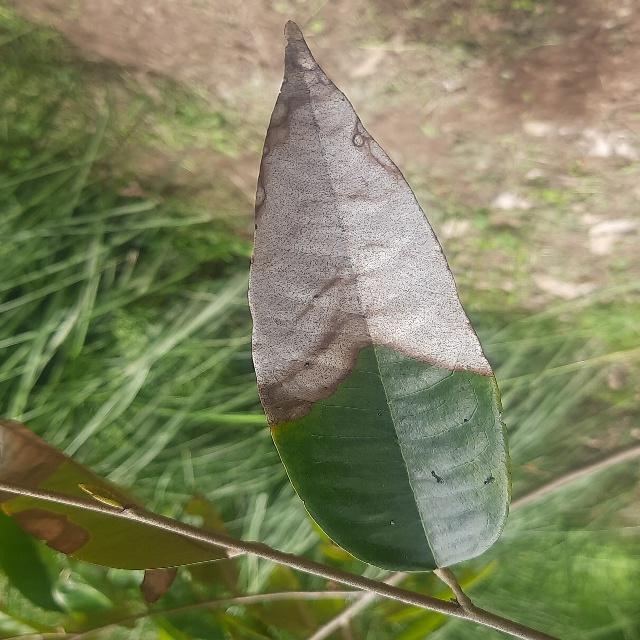Leaf Blight: (233, 15, 517, 585)
